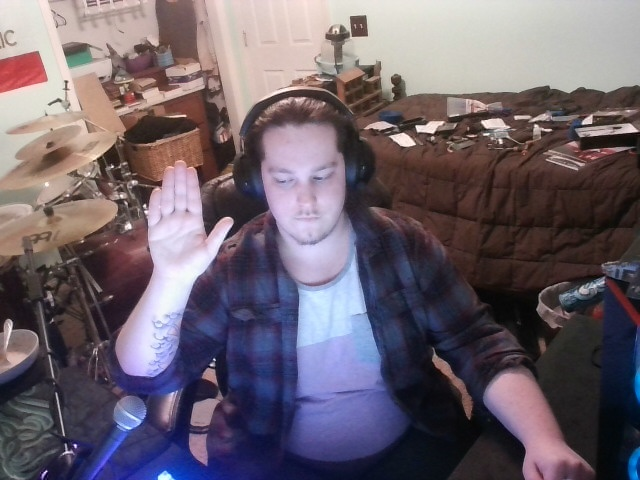hello: (131, 149, 240, 298)
